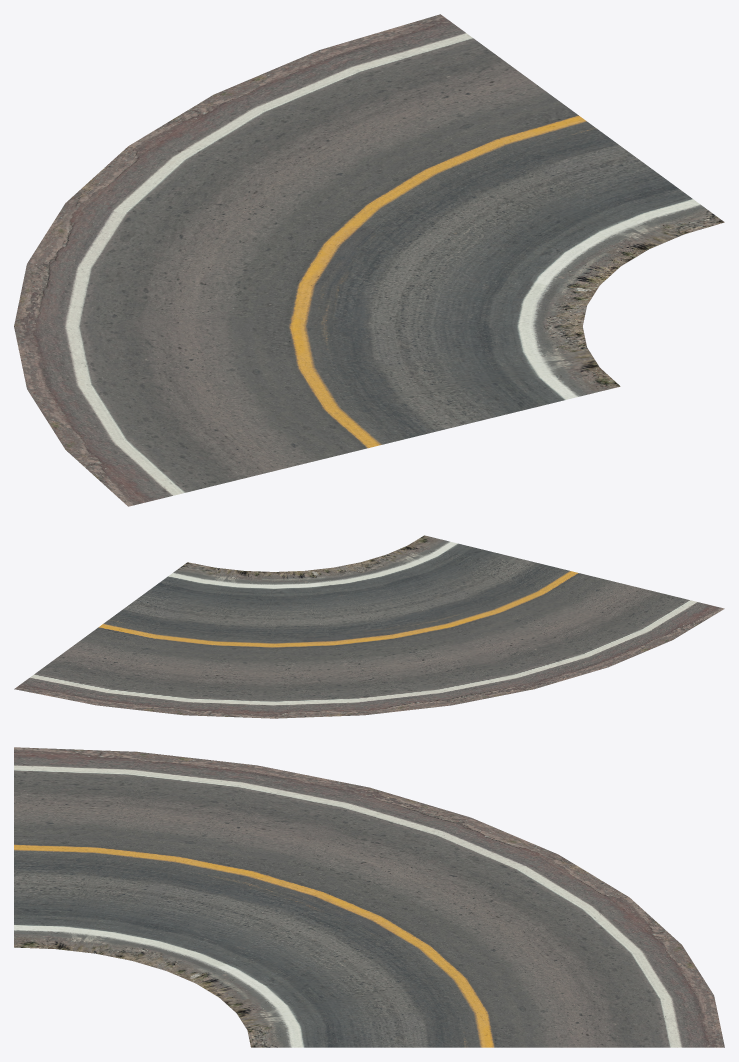
File: CurveRoad.FBX
3 views of the same model, one above another, from view 1: azimuth 30°, elevation 25°; view 2: azimuth 150°, elevation 25°; view 3: azimuth 270°, elevation 25° (orthographic). The views are drawn at different scales.
Visible parts, largest first — view 1: Plane040; view 2: Plane040; view 3: Plane040.
Boxes of the visible parts, x1,y1,x2,y2 form: Plane040: (14, 14, 724, 506); Plane040: (14, 535, 724, 718); Plane040: (14, 747, 724, 1047).
Size of the model in its own units: 922 by 0.00104 by 922.
